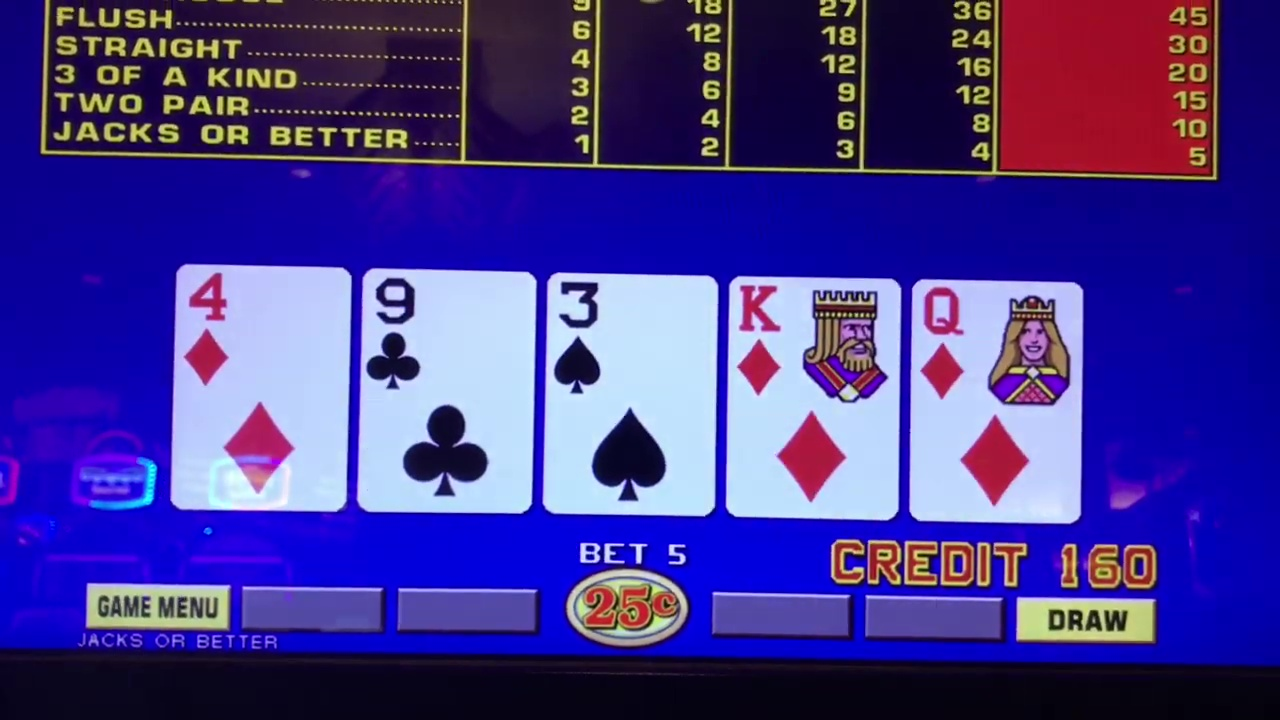C9: (365, 272, 526, 390)
D4: (177, 268, 342, 387)
DK: (729, 280, 900, 398)
DQ: (915, 283, 1074, 401)
S3: (550, 276, 711, 394)
